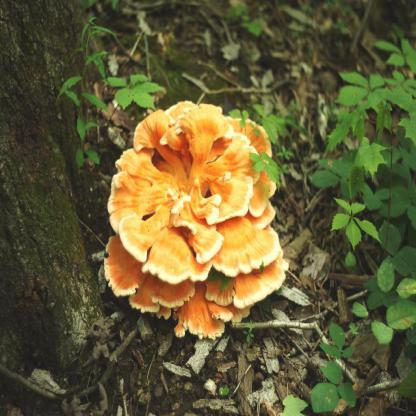CoW: (104, 100, 289, 341)
